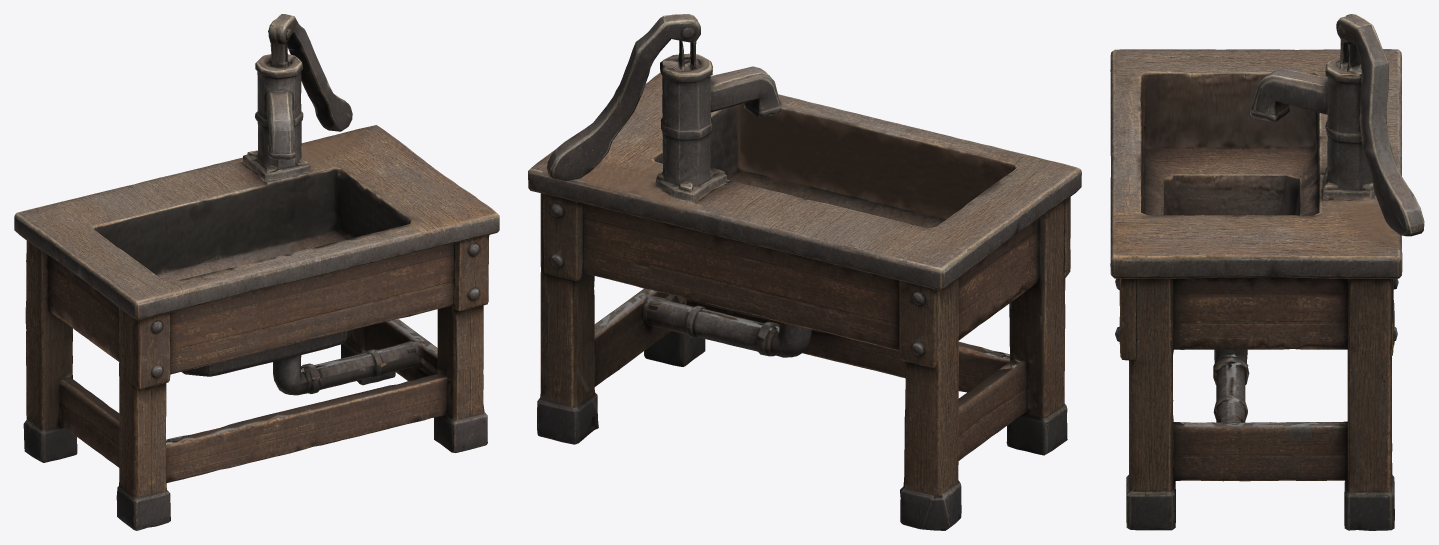
The model's file is Furn_KitchenSink.fbx.
3 views of the same model, side by side, from view 1: azimuth 30°, elevation 25°; view 2: azimuth 150°, elevation 25°; view 3: azimuth 270°, elevation 25° (orthographic). The views are drawn at different scales.
Visible parts, largest first — view 1: texture_mapping; view 2: texture_mapping; view 3: texture_mapping.
Part boxes in pixels (x1,y1,x2,y2): texture_mapping: [14, 14, 499, 530]; texture_mapping: [528, 14, 1081, 530]; texture_mapping: [1110, 14, 1424, 530].
Bounding box in the file's own units: 1 × 0.6337 × 1.
1 material, 1 textured.
